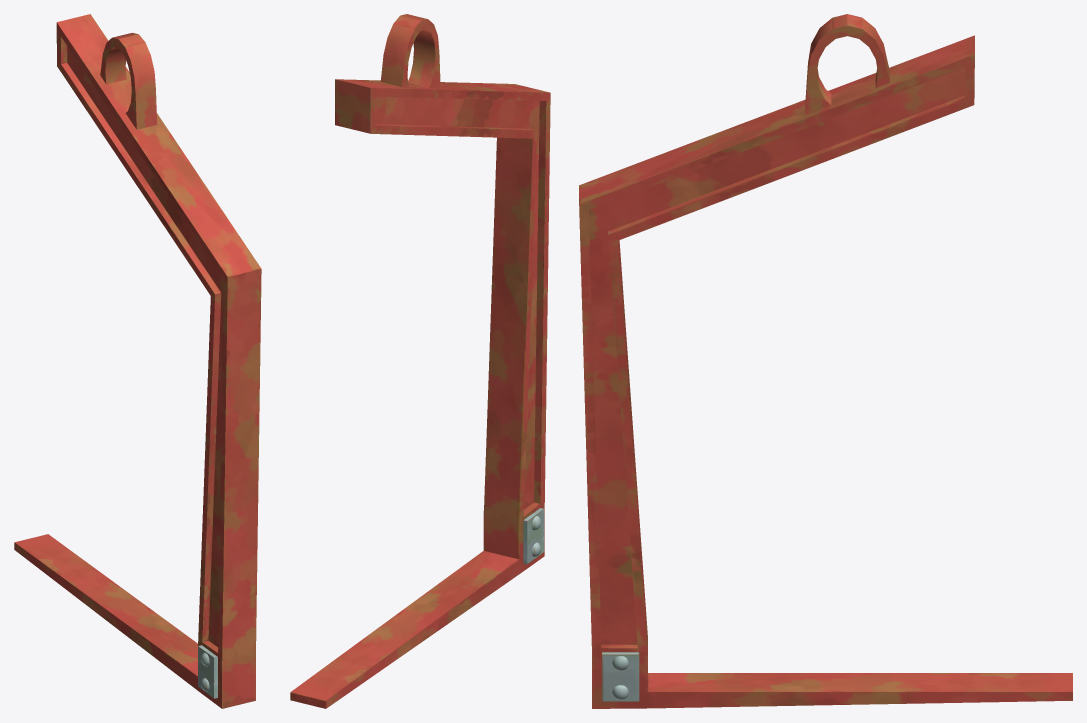
File: Transport_grue.fbx
3 renders of one model, left to right at view 1: azimuth 30°, elevation 25°; view 2: azimuth 150°, elevation 25°; view 3: azimuth 270°, elevation 25°, orthographic. The views are drawn at different scales.
Visible parts, largest first — view 1: Cube.091; view 2: Cube.091; view 3: Cube.091.
Part boxes in pixels (x1=…): Cube.091: x1=14, y1=14, x2=261, y2=708; Cube.091: x1=290, y1=14, x2=550, y2=708; Cube.091: x1=579, y1=14, x2=1072, y2=708.
Size of the model in its own units: 124 by 1400 by 922.
